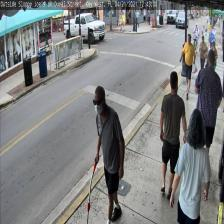person: (170, 109, 213, 224), (92, 85, 124, 224), (159, 71, 187, 198), (194, 50, 222, 160)
